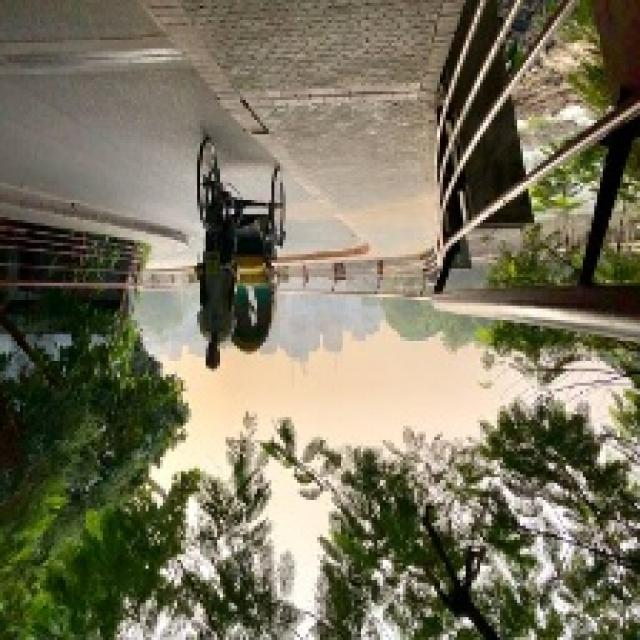rickshaw: (190, 131, 284, 356)
